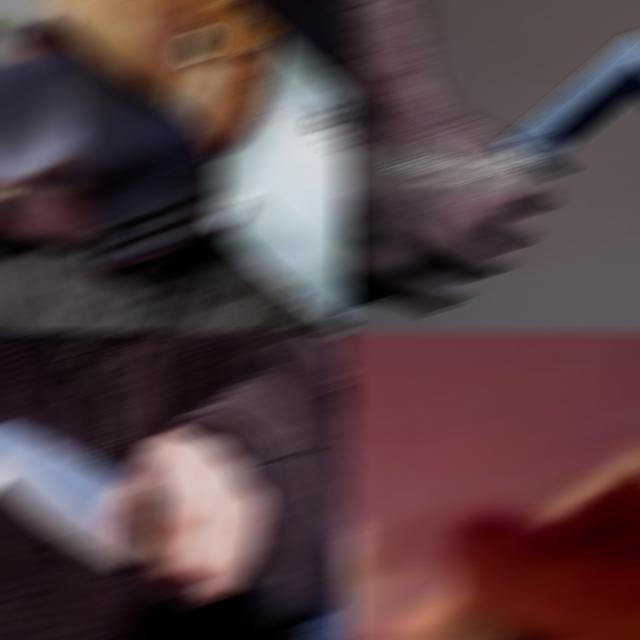Knife: (38, 2, 351, 325), (0, 425, 165, 569), (495, 30, 640, 174)
Knife_Handle: (339, 2, 640, 330), (0, 370, 280, 610), (339, 418, 640, 638)
